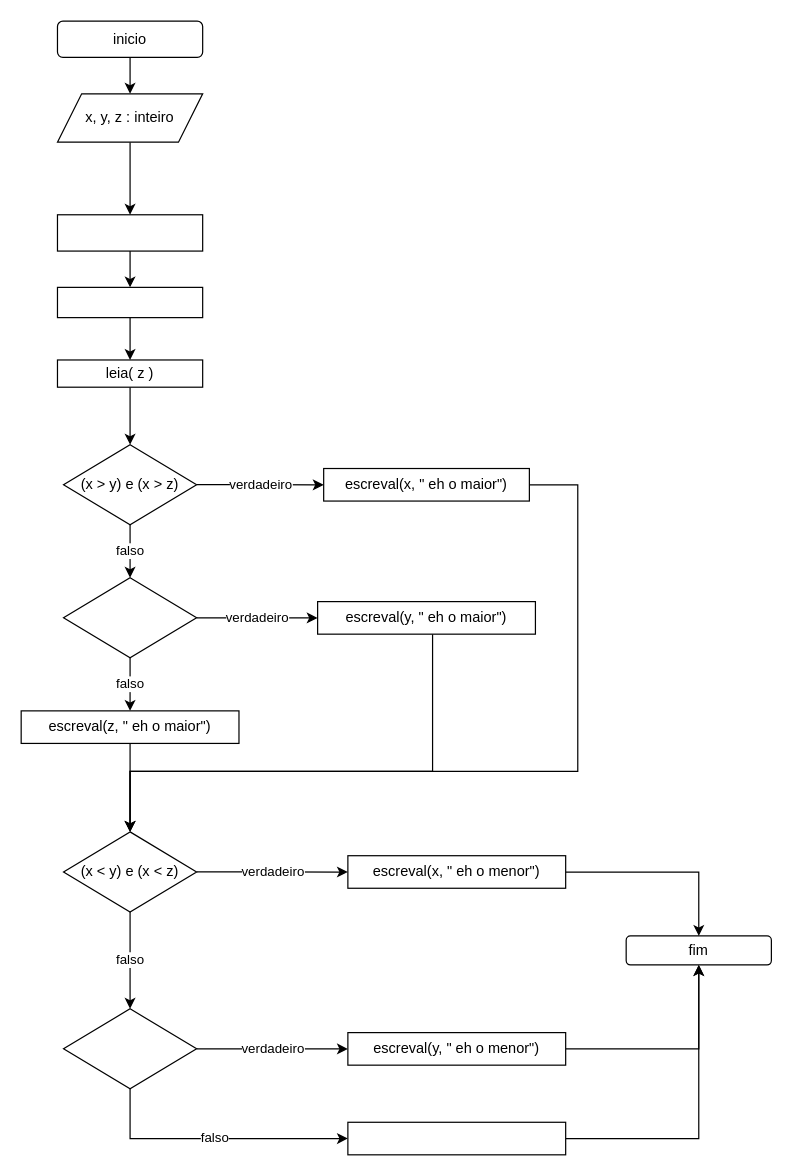
The diagram is 793 pixels wide and 1176 high, and some of its shapes have lost their labels. The centre of each missing label's shape, as x and y in pixels:
(y < x) e (y < z): (x=129, y=1048)
(y > x) e (y > z): (x=129, y=617)
escreval(z, " eh o menor"): (x=456, y=1138)
leia( x ): (x=129, y=232)
leia( y ): (x=129, y=302)
